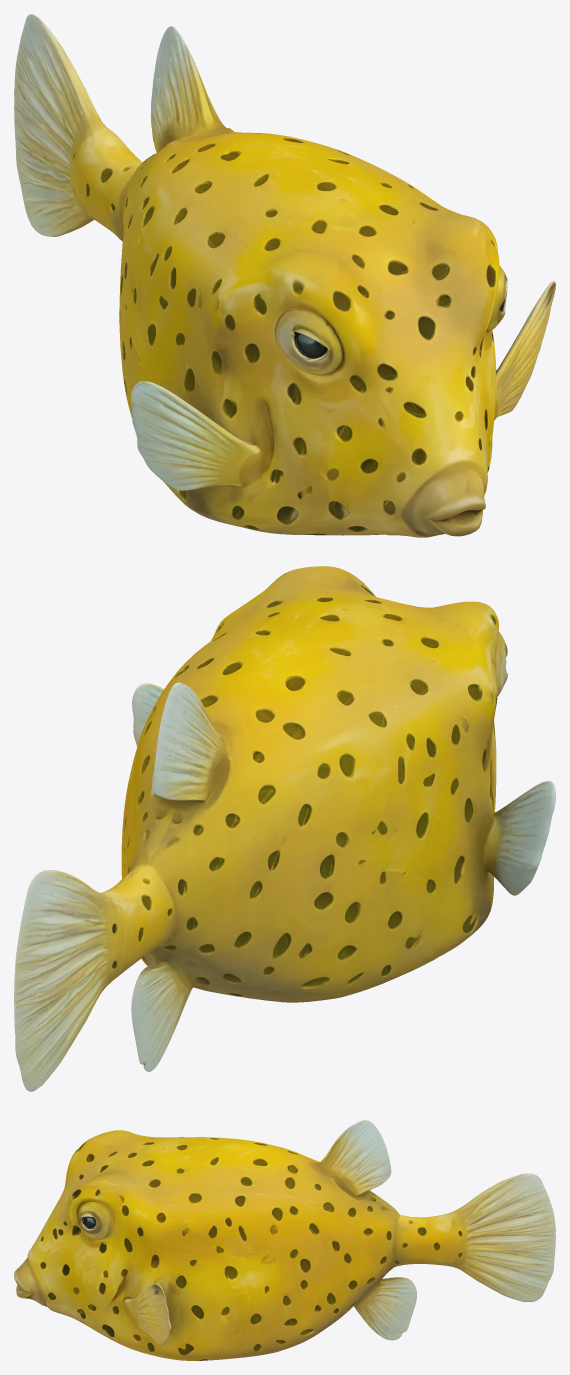
File: yellow-boxfish.glb
The picture shows the model from 3 angles, top to bottom: view 1: azimuth 30°, elevation 25°; view 2: azimuth 150°, elevation 25°; view 3: azimuth 270°, elevation 25°; orthographic projection. The views are drawn at different scales.
Parts seen in each view (by area): view 1: OE_mesh_yellow-boxfish_body_rodin-web-draft; view 2: OE_mesh_yellow-boxfish_body_rodin-web-draft; view 3: OE_mesh_yellow-boxfish_body_rodin-web-draft.
Part boxes in pixels (box(x1,y1,x2,y2)): OE_mesh_yellow-boxfish_body_rodin-web-draft: box(14, 14, 555, 537); OE_mesh_yellow-boxfish_body_rodin-web-draft: box(14, 566, 555, 1091); OE_mesh_yellow-boxfish_body_rodin-web-draft: box(14, 1120, 555, 1360).
Bounding box in the file's own units: 1.02 × 0.8521 × 1.9.
Materials: 1 (1 with a texture image).
